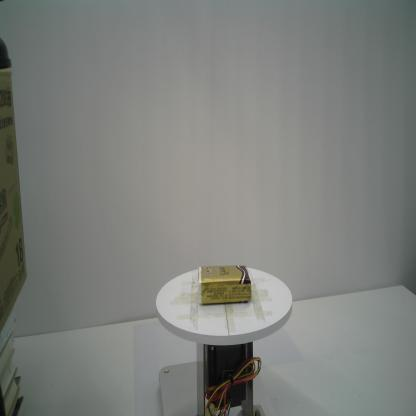Tissue: (198, 265, 252, 304)
